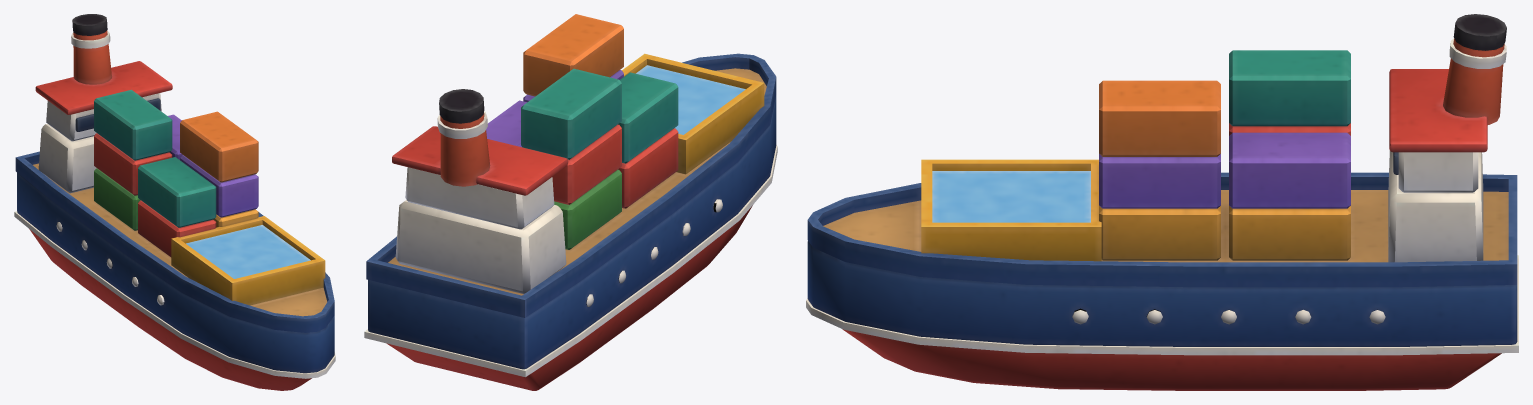
File: CargoShip.glb
3 renders of one model, left to right at view 1: azimuth 30°, elevation 25°; view 2: azimuth 150°, elevation 25°; view 3: azimuth 270°, elevation 25°, orthographic. The views are drawn at different scales.
Parts seen in each view (by area): view 1: CargoShip, CargoShip_Water; view 2: CargoShip, CargoShip_Water; view 3: CargoShip, CargoShip_Water.
Part boxes in pixels (bbox=[...]): CargoShip: bbox=[14, 14, 335, 390]; CargoShip_Water: bbox=[186, 225, 310, 278]; CargoShip: bbox=[364, 14, 777, 390]; CargoShip_Water: bbox=[636, 65, 745, 134]; CargoShip: bbox=[806, 14, 1518, 390]; CargoShip_Water: bbox=[932, 171, 1090, 222].
Size of the model in its own units: 4.5 by 7.24 by 14.
1 material, 1 textured.
